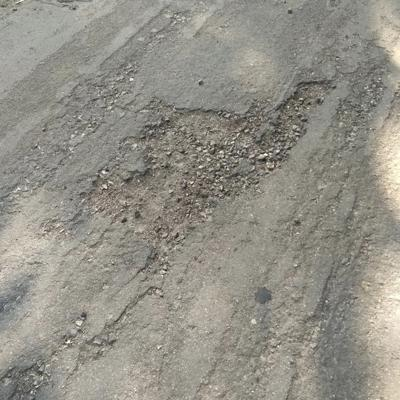Pothole: (18, 75, 346, 398)
